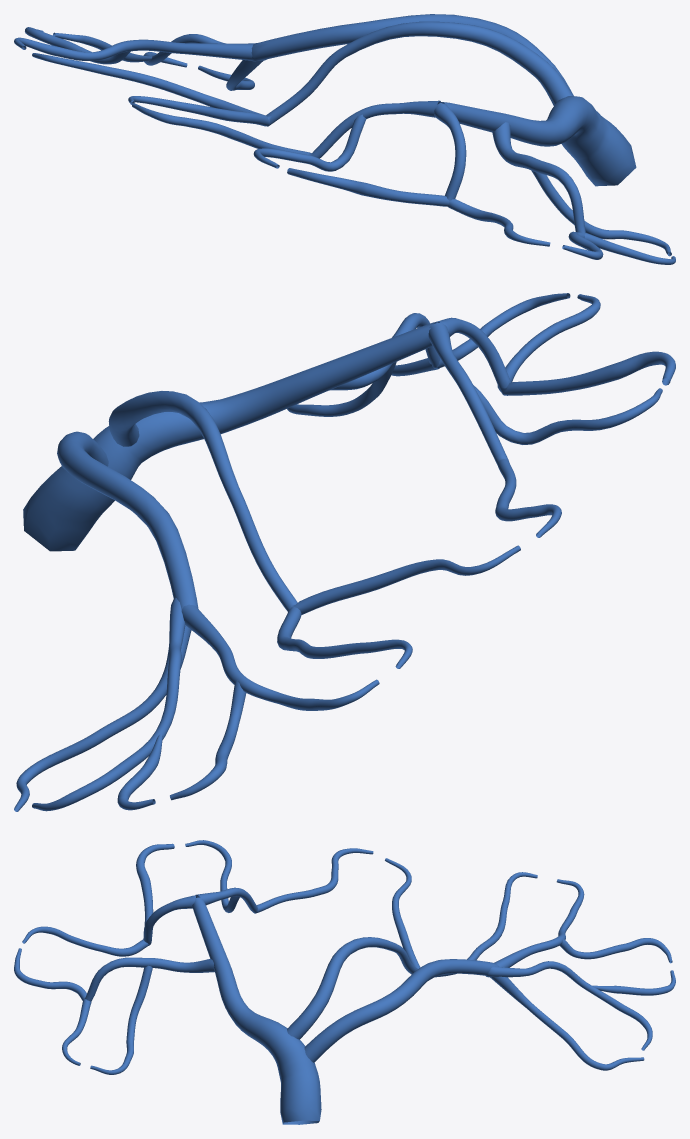
3 views of the same model, one above another, from view 1: azimuth 30°, elevation 25°; view 2: azimuth 150°, elevation 25°; view 3: azimuth 270°, elevation 25° (orthographic). The views are drawn at different scales.
Visible parts, largest first — view 1: 右肾内静脉; view 2: 右肾内静脉; view 3: 右肾内静脉.
Part boxes in pixels (left/top/right/bottom): 右肾内静脉: left=14, top=14, right=675, bottom=264; 右肾内静脉: left=14, top=293, right=675, bottom=811; 右肾内静脉: left=14, top=840, right=675, bottom=1124.
Bounding box in the file's own units: 0.0708 × 0.0285 × 0.1142.
